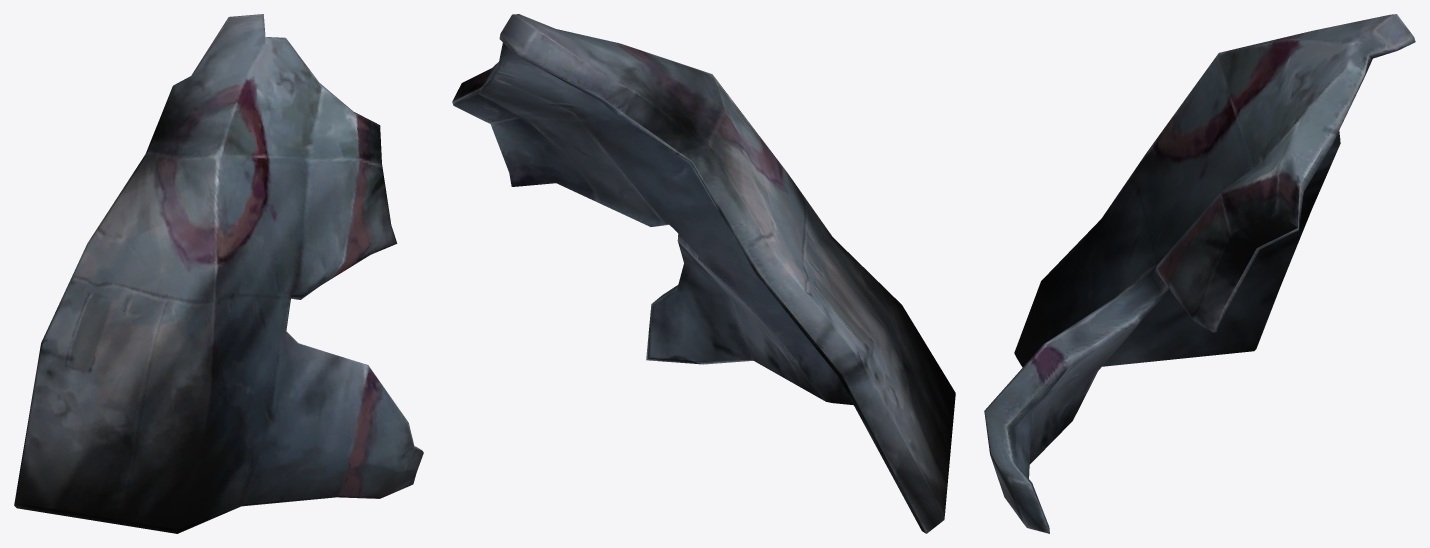
File: ord_item_sav_debris_medium_05.glb
3 renders of one model, left to right at view 1: azimuth 30°, elevation 25°; view 2: azimuth 150°, elevation 25°; view 3: azimuth 270°, elevation 25°, orthographic. The views are drawn at different scales.
Parts seen in each view (by area): view 1: ord_item_sav_debris_medium_05; view 2: ord_item_sav_debris_medium_05; view 3: ord_item_sav_debris_medium_05.
Boxes of the visible parts, x1,y1,x2,y2 form: ord_item_sav_debris_medium_05: (14, 14, 423, 533); ord_item_sav_debris_medium_05: (452, 14, 955, 533); ord_item_sav_debris_medium_05: (984, 14, 1415, 533).
Bounding box in the file's own units: 0.5462 × 0.5311 × 0.4103.
1 material, 1 textured.
